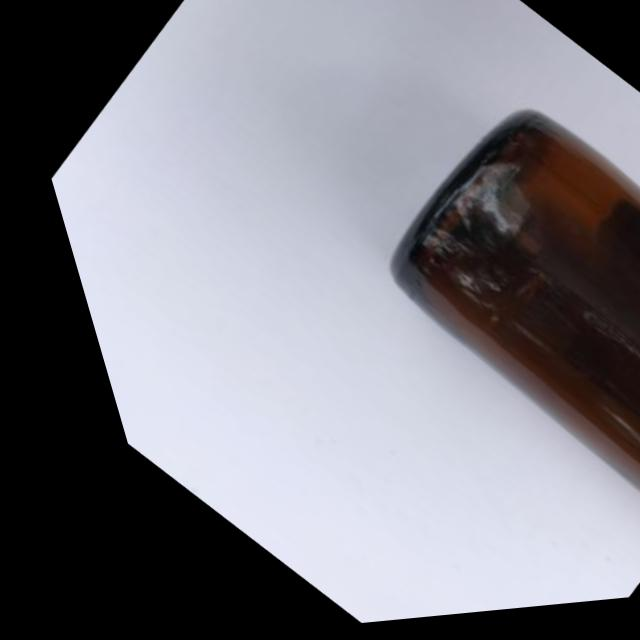glass: (215, 8, 640, 586)
